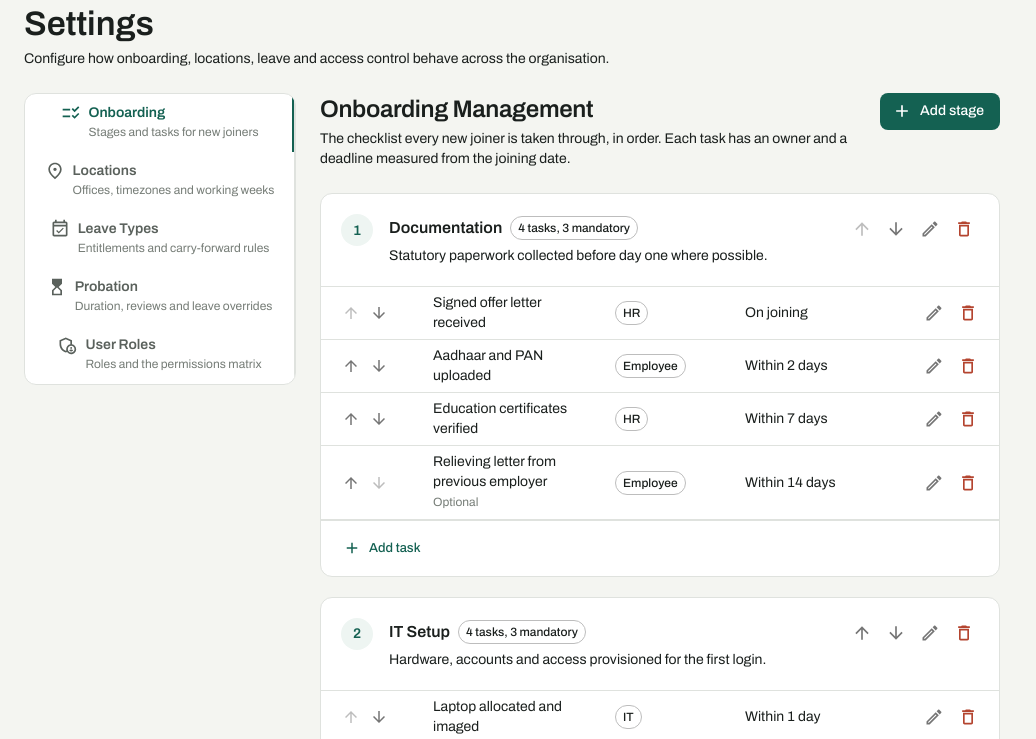
Test: SettingsPage › marks the active tab and points it at the visible panel
Expected: the heading "Onboarding Management" is shown, [320,96,593,122]
Click the tab "Locations Offices, timezones and working weeks": (160, 181) [25,152,294,210]
(page scrolled)
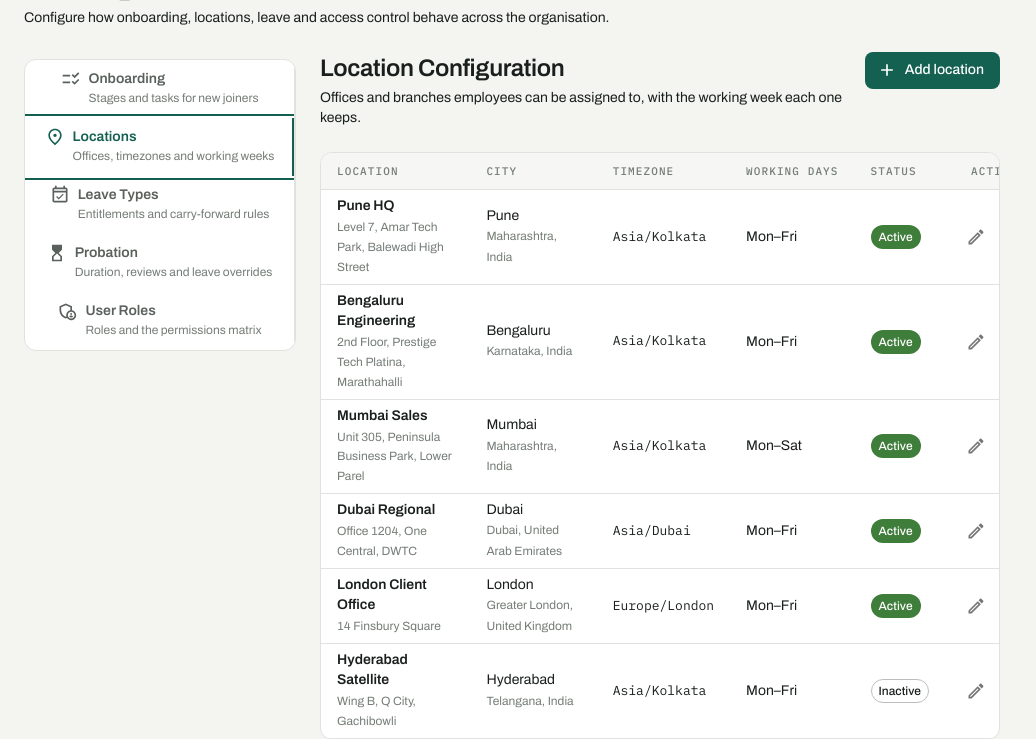
Now the heading "Location Configuration" is shown, box [320,55,564,81]
